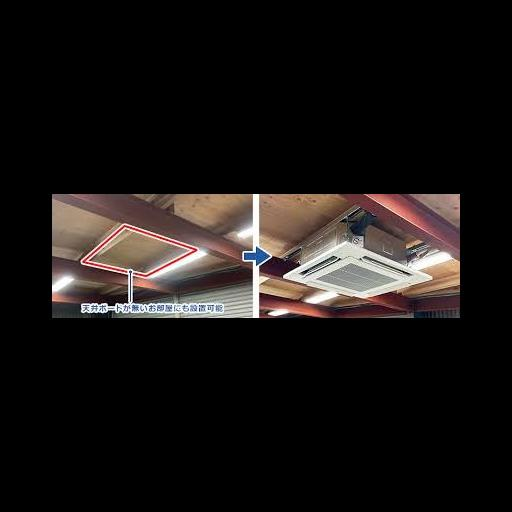4-way-ac: (284, 241, 433, 297)
